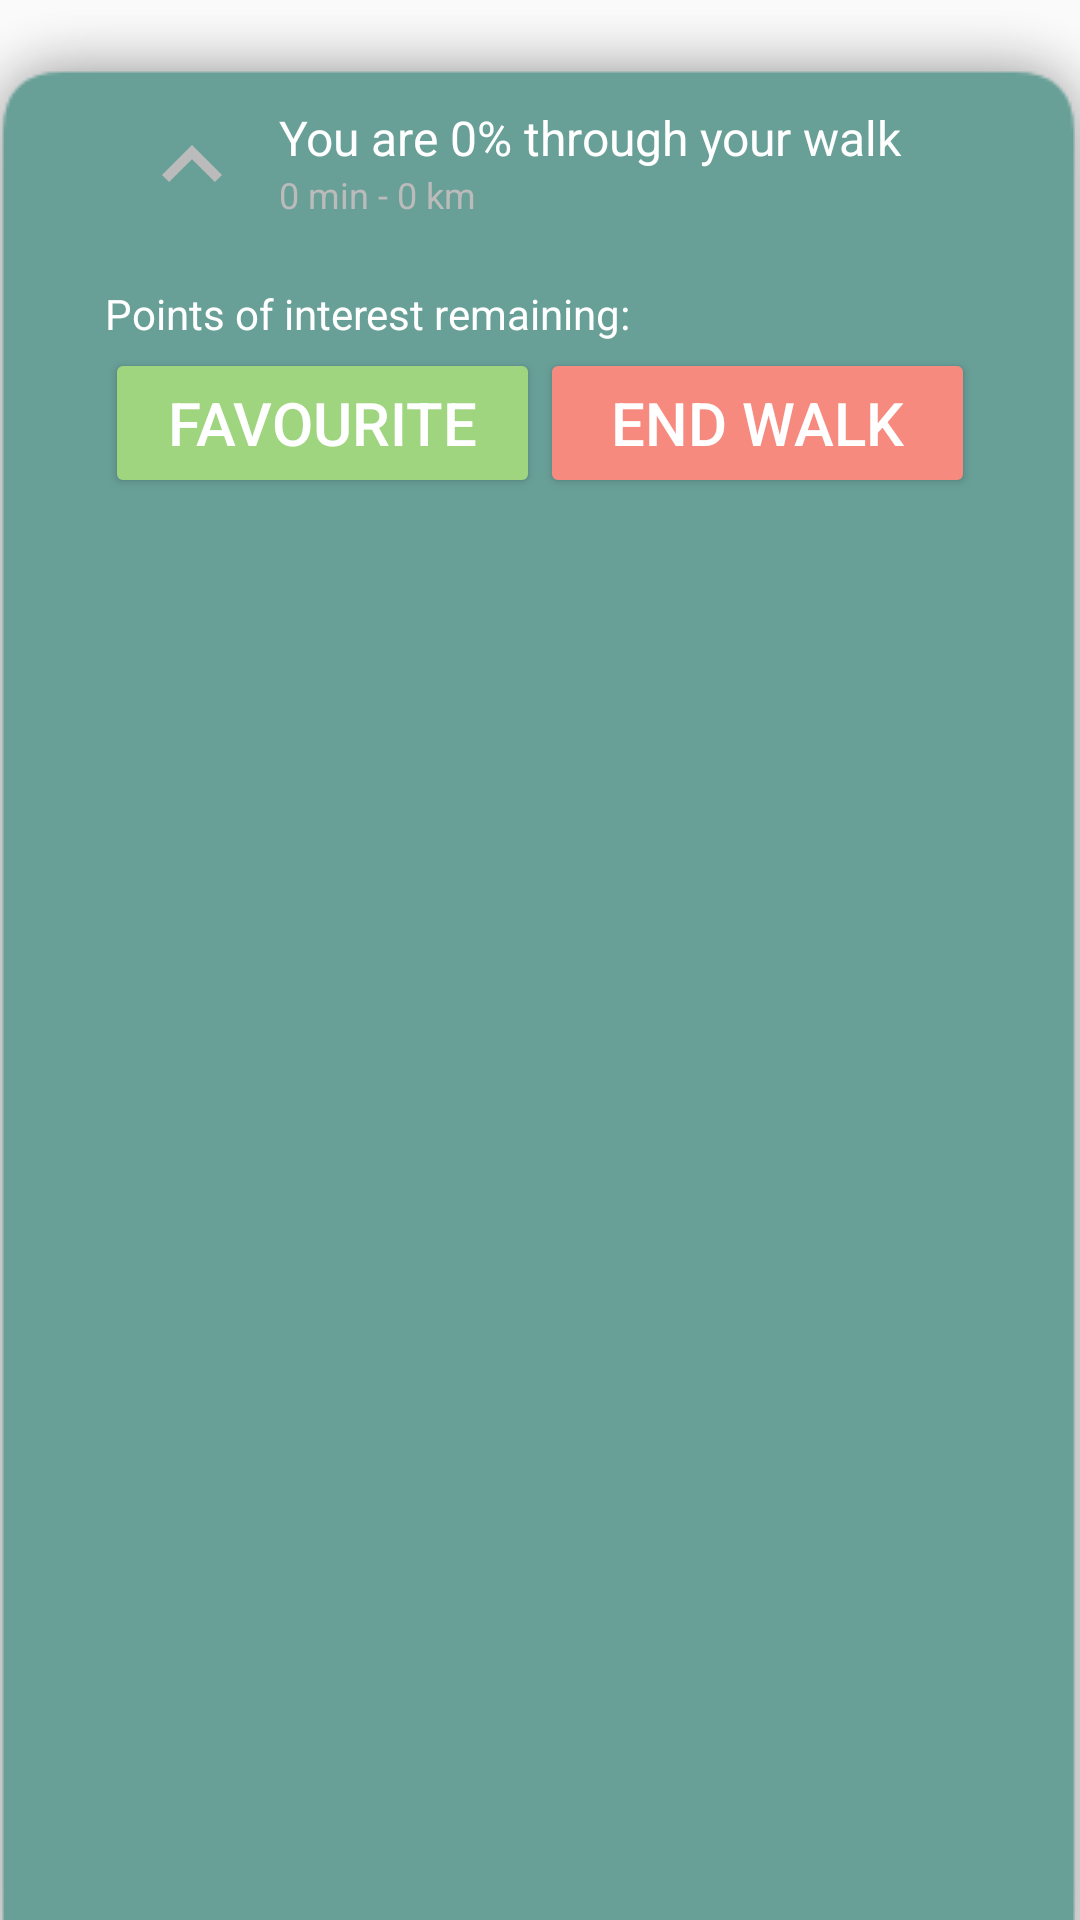

Where to tap for icons on this 1080×1920 app screen, as [x,y]:
toggle chevron: [192,163]
